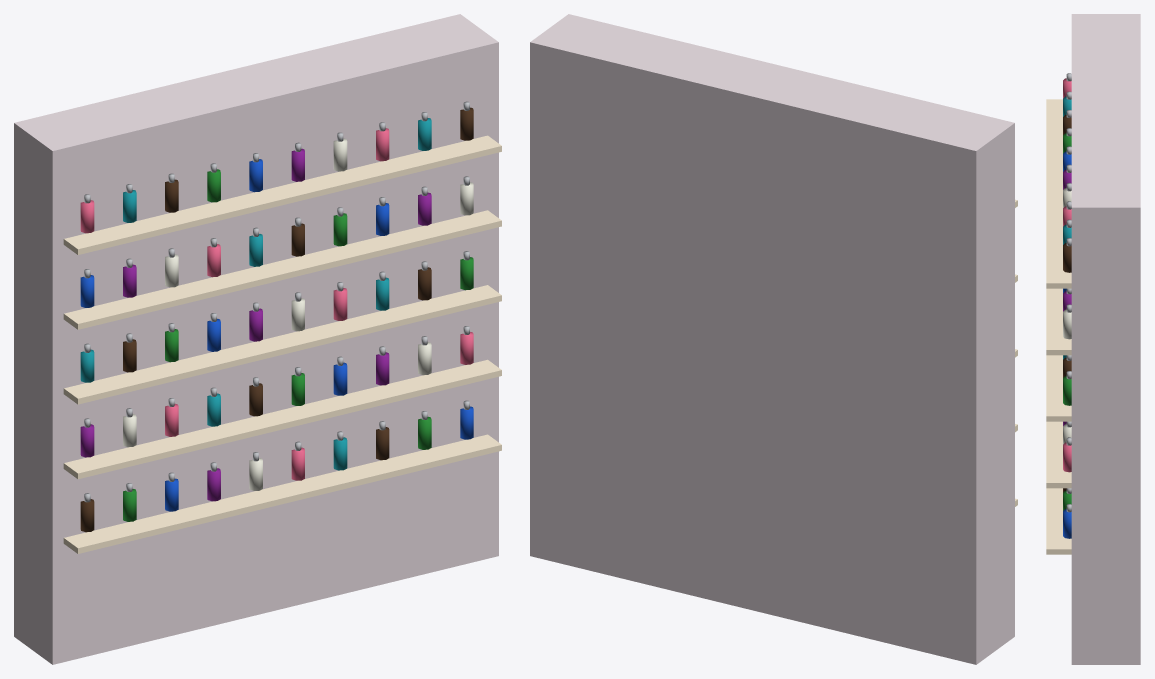
Rendered from perfume_wall.glb.
3 views of the same model, side by side, from view 1: azimuth 30°, elevation 25°; view 2: azimuth 150°, elevation 25°; view 3: azimuth 270°, elevation 25° (orthographic). The views are drawn at different scales.
Visible parts, largest first — view 1: perfume_wall; view 2: perfume_wall; view 3: perfume_wall.
Boxes of the visible parts, bbox=[...] form: perfume_wall: bbox=[14, 14, 501, 664]; perfume_wall: bbox=[530, 14, 1017, 664]; perfume_wall: bbox=[1046, 14, 1140, 664].
Size of the model in its own units: 2 by 2.2 by 0.41.
1 material, 1 textured.
